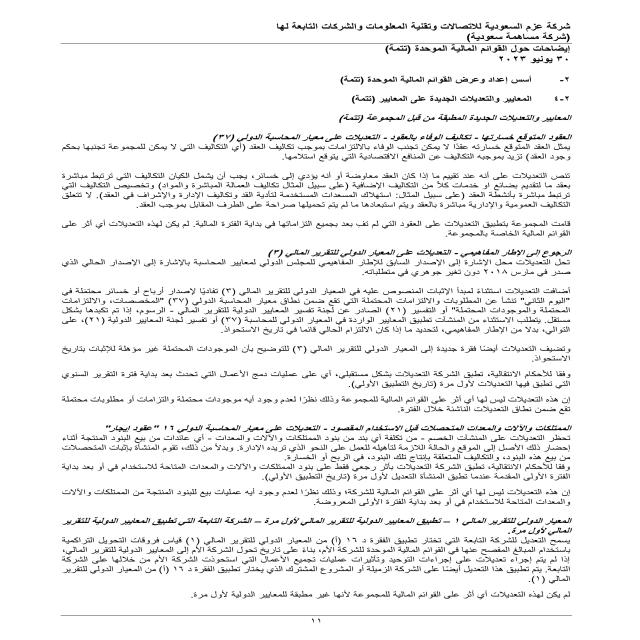notes: (383, 44, 590, 55)
text: (11, 71, 578, 617)
